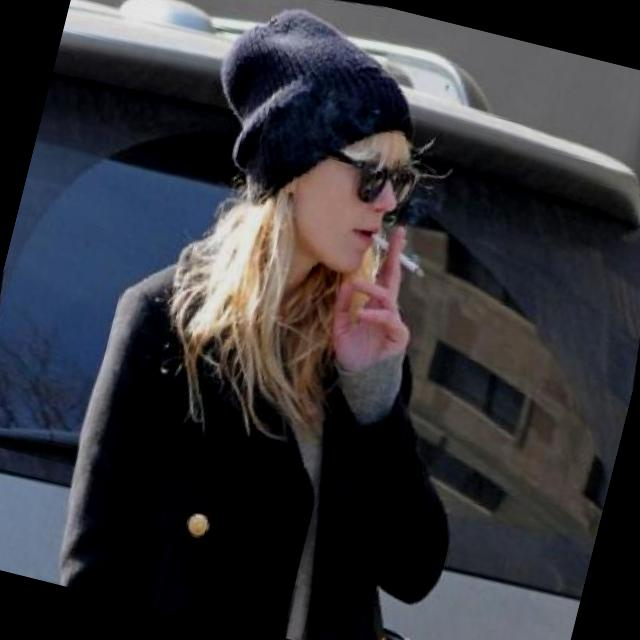cigarette: (359, 221, 435, 286)
